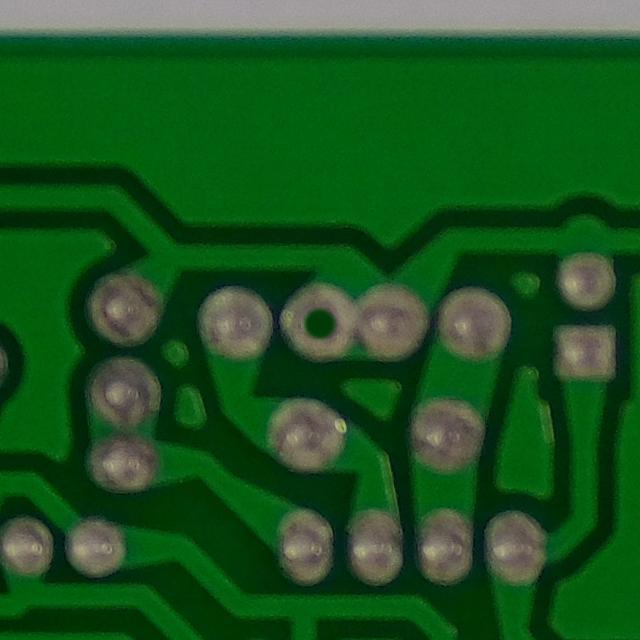missing_hole: (276, 277, 360, 367)
